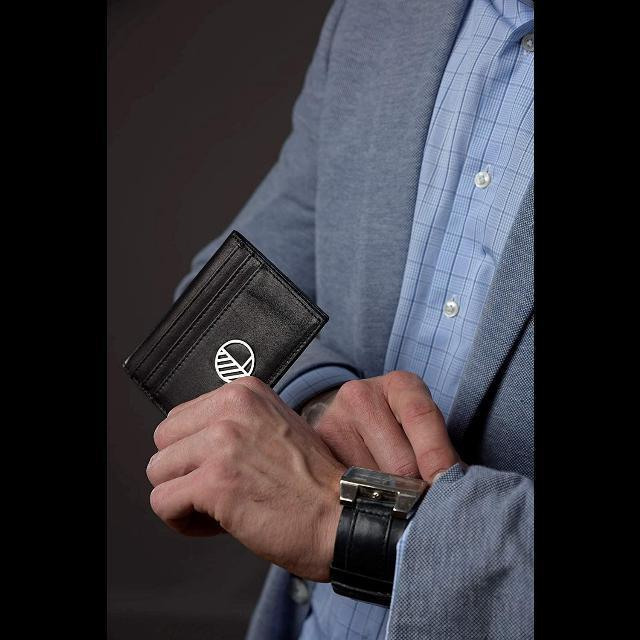wallet: (118, 231, 324, 439)
